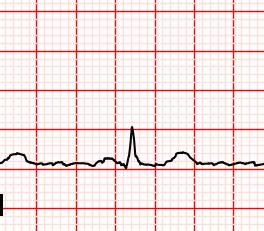LVH: (160, 146, 199, 170)
